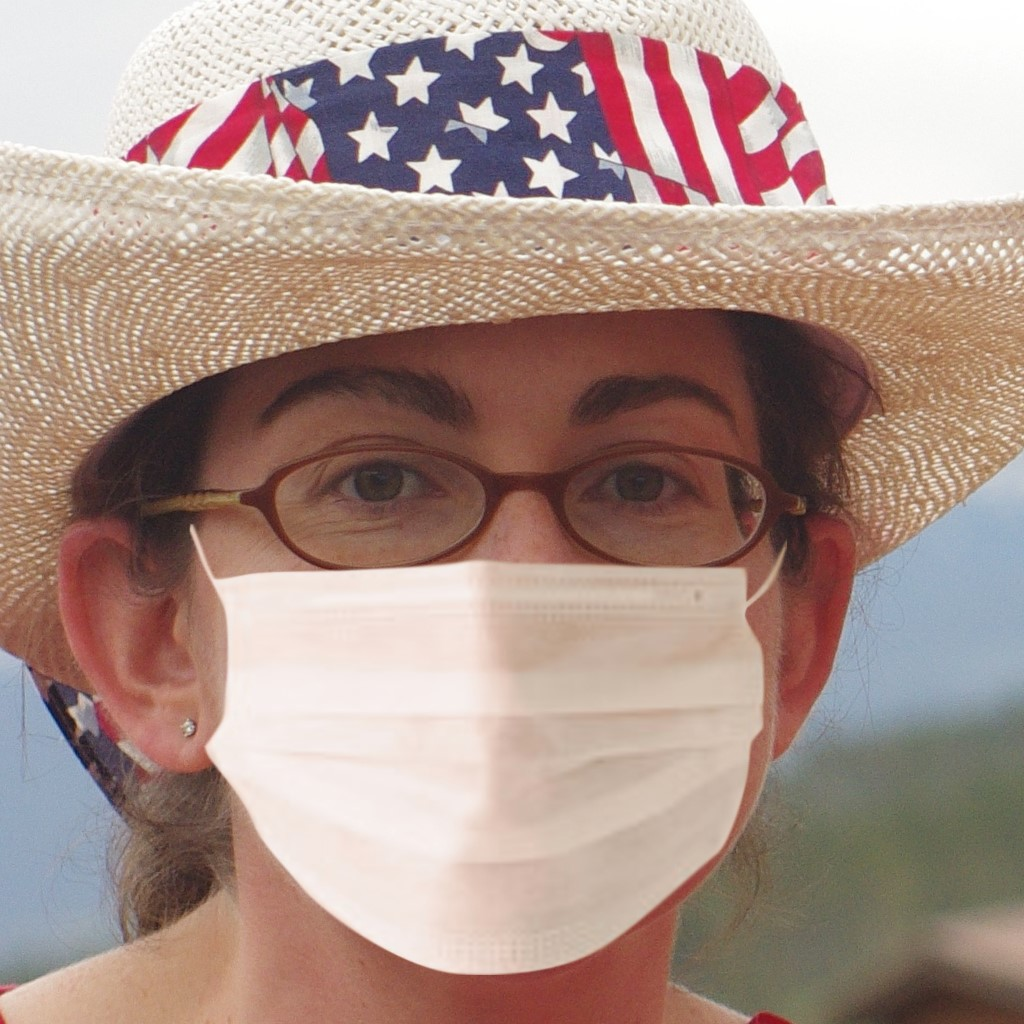con_mascara: (138, 225, 864, 1016)
